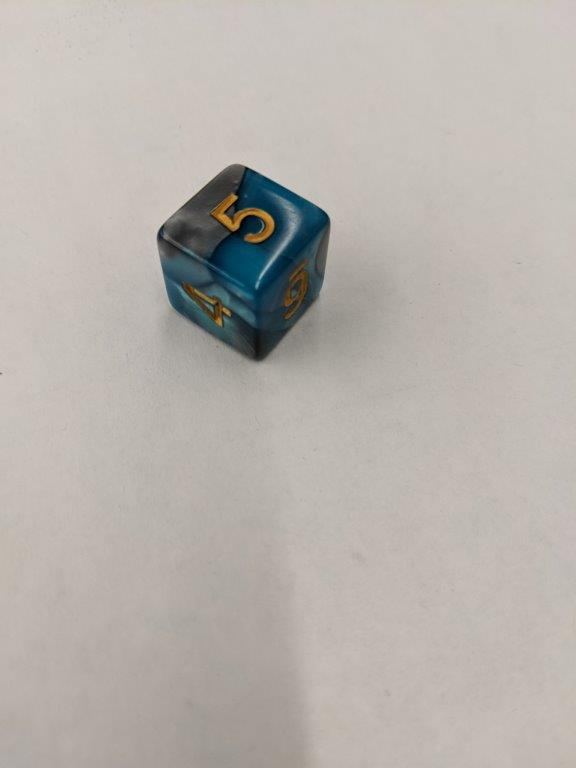d6-5: (156, 163, 332, 363)
